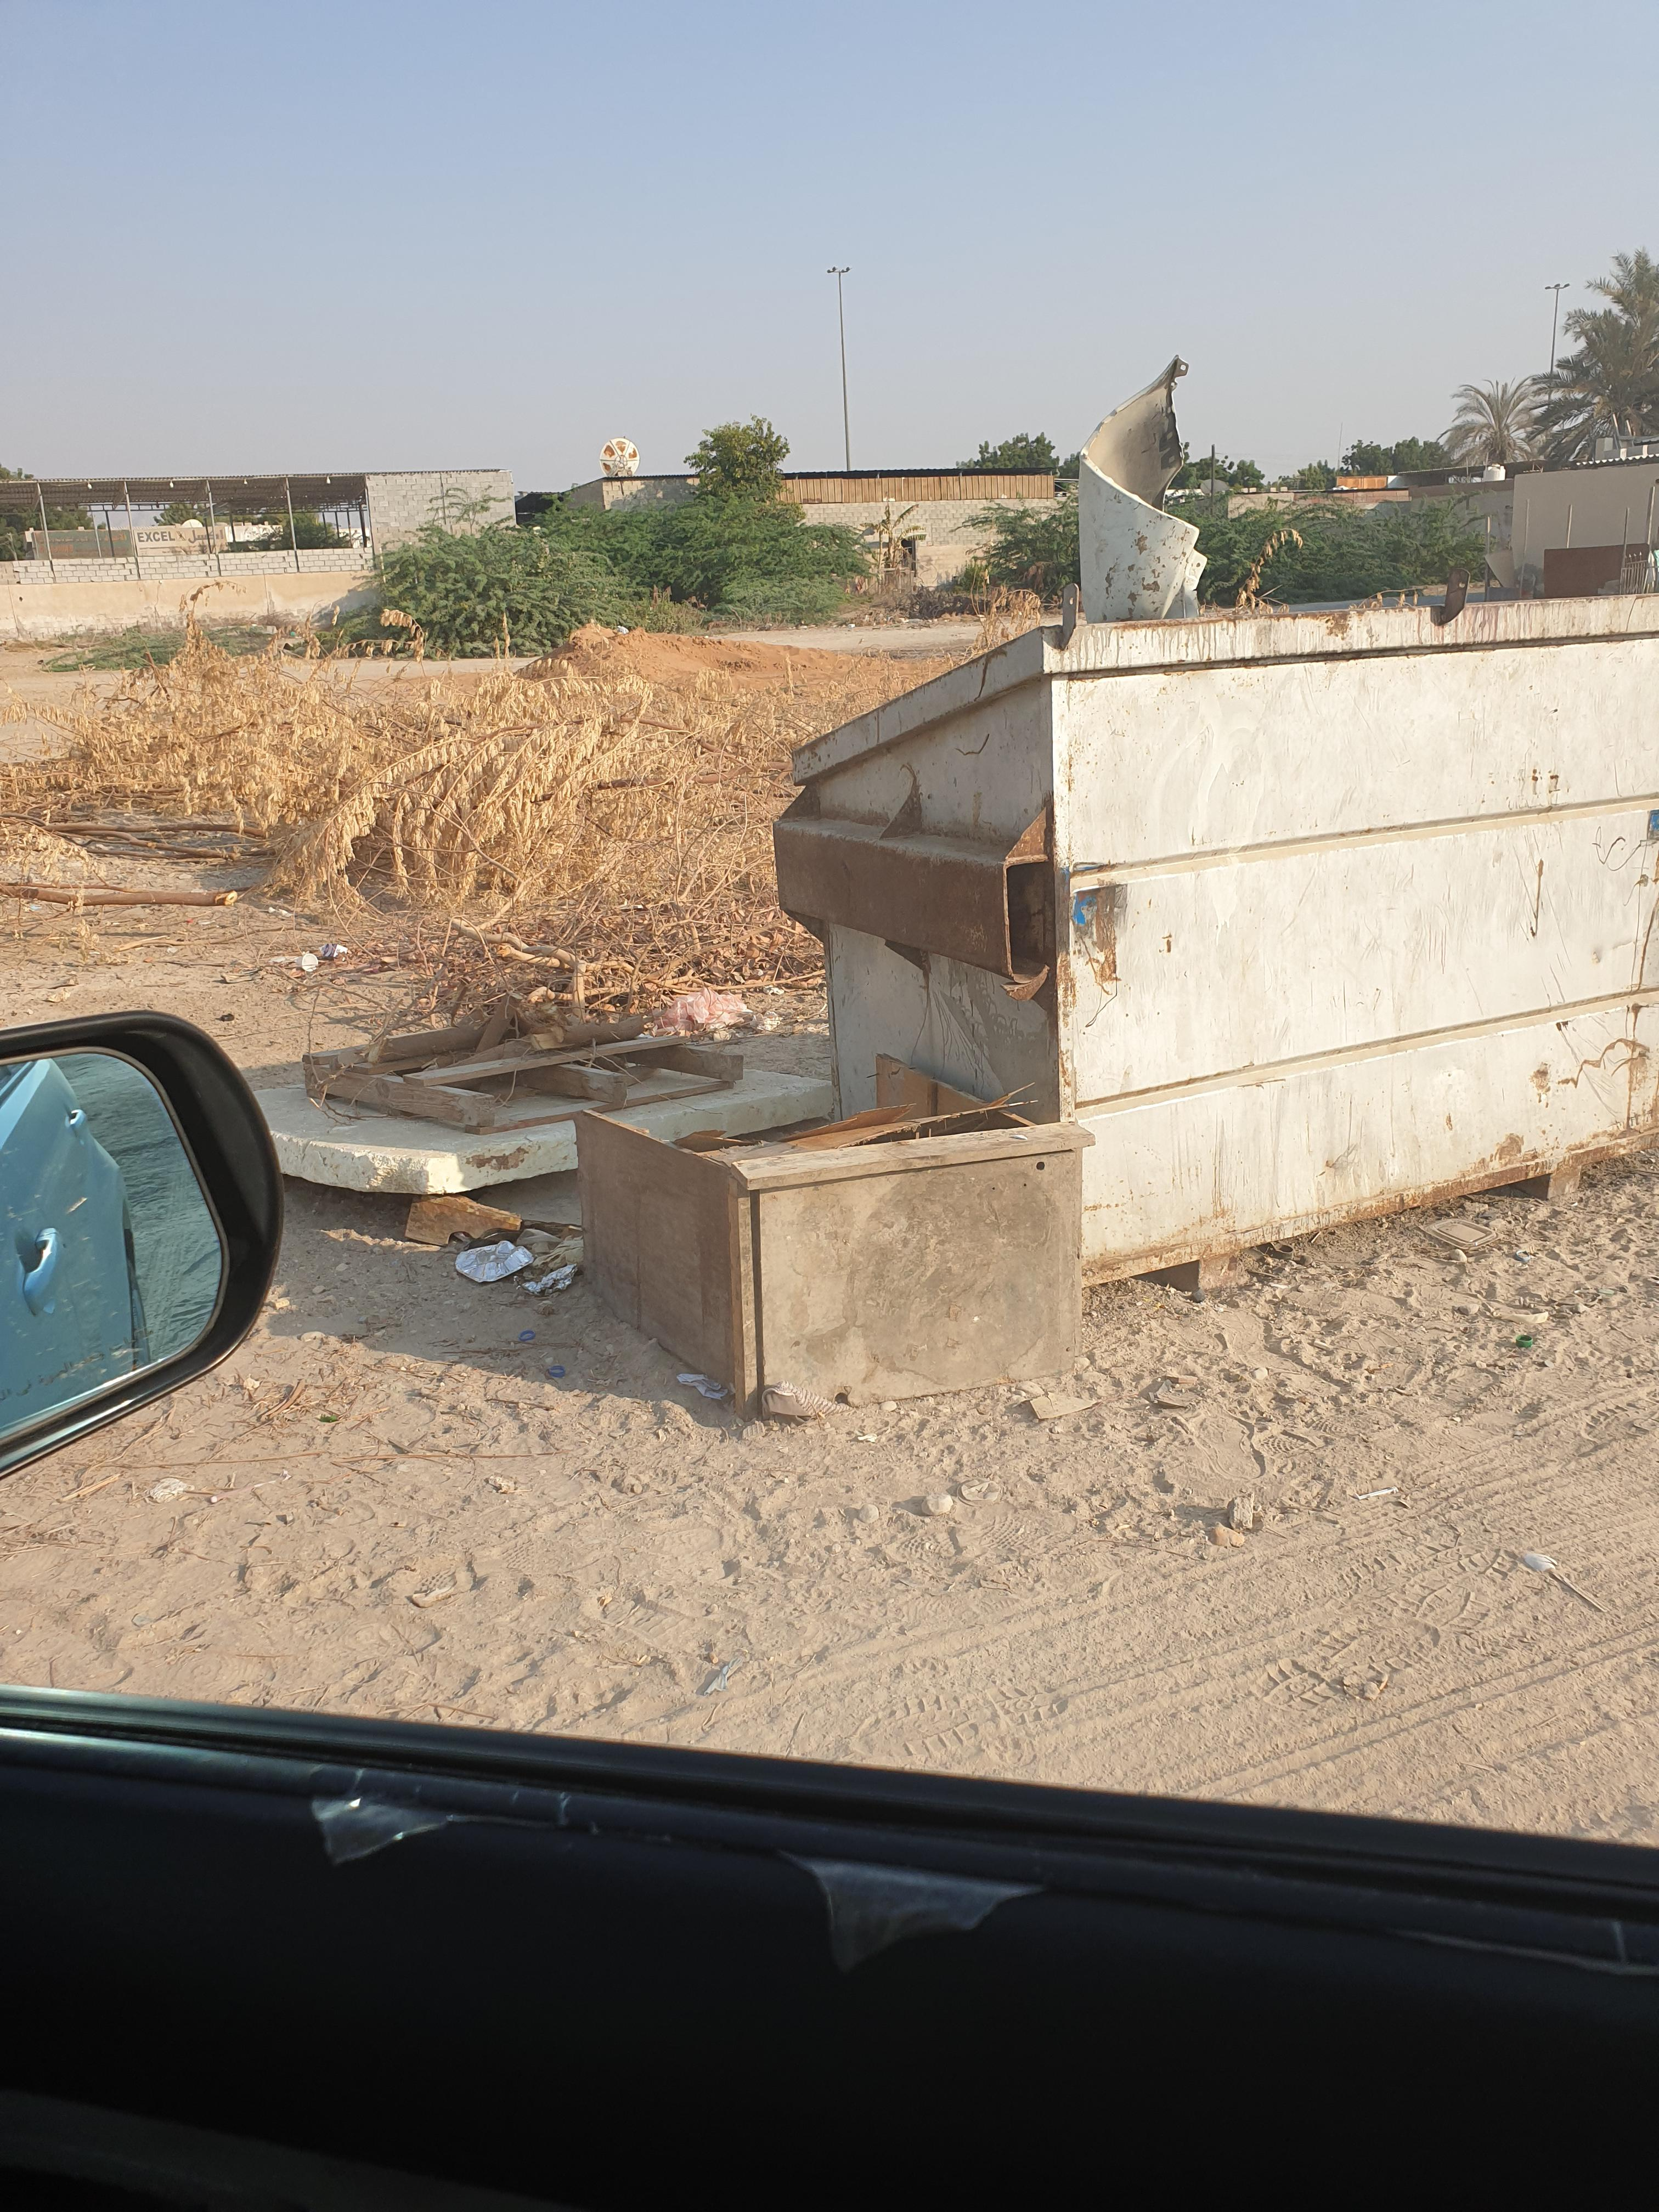fallen_trees: (70, 637, 727, 981), (385, 702, 769, 935), (14, 679, 349, 921)
uncollected_waste: (573, 1082, 1134, 1432), (333, 1001, 721, 1216)
